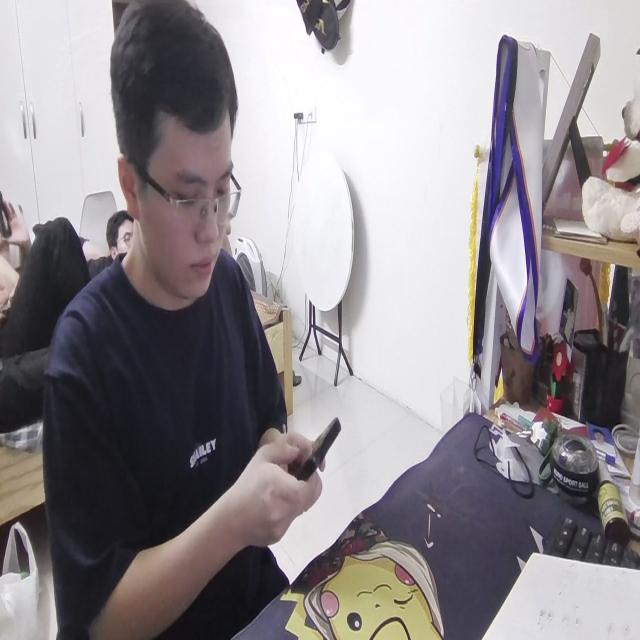book: (480, 539, 640, 640)
phone: (290, 413, 344, 482)
student: (38, 0, 324, 640)
